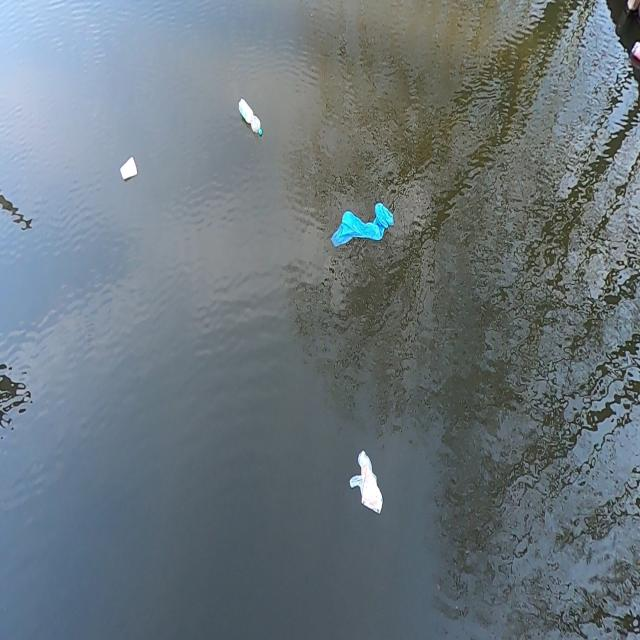Bouteille plastique: (236, 95, 266, 143)
Non plastique: (118, 149, 140, 184)
Sac plastique: (329, 198, 396, 253), (346, 446, 388, 520)
